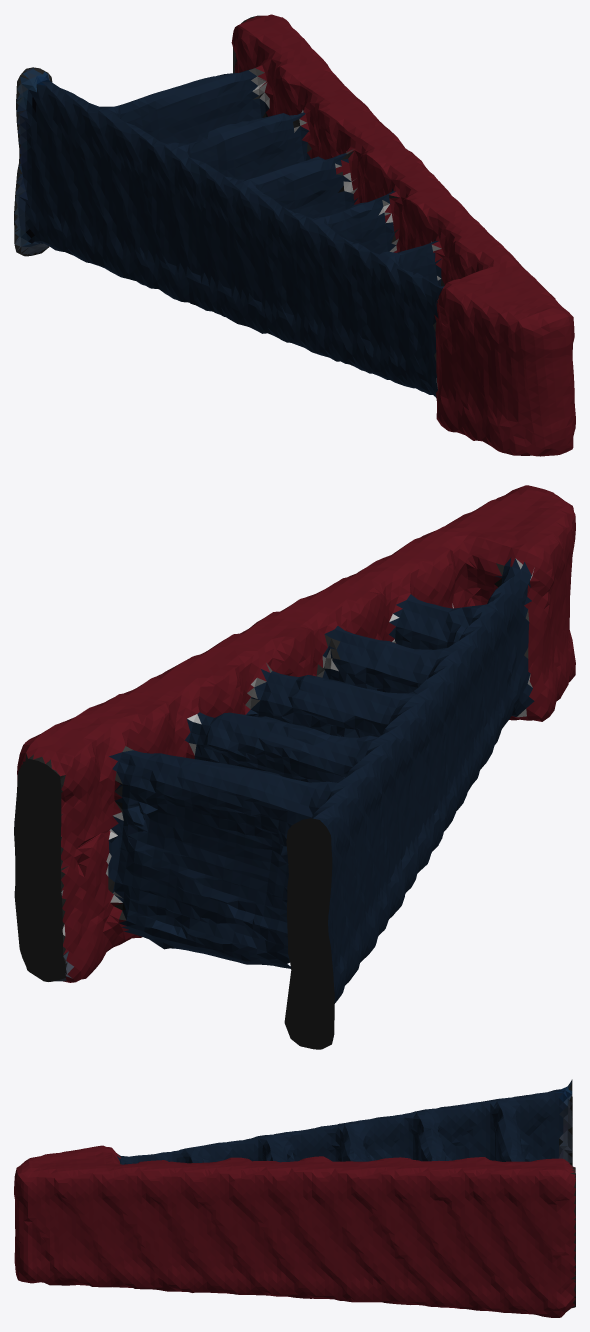
File: soft_gripper_aligned.dae
The picture shows the model from 3 angles, top to bottom: view 1: azimuth 30°, elevation 25°; view 2: azimuth 150°, elevation 25°; view 3: azimuth 270°, elevation 25°; orthographic projection. The views are drawn at different scales.
Parts seen in each view (by area): view 1: node_f4bb863f_3b00_4a46_b295_70c8289e4a95_mesh0; view 2: node_f4bb863f_3b00_4a46_b295_70c8289e4a95_mesh0; view 3: node_f4bb863f_3b00_4a46_b295_70c8289e4a95_mesh0.
Part boxes in pixels (x1,y1,x2,y2): node_f4bb863f_3b00_4a46_b295_70c8289e4a95_mesh0: [14, 14, 575, 456]; node_f4bb863f_3b00_4a46_b295_70c8289e4a95_mesh0: [14, 485, 575, 1049]; node_f4bb863f_3b00_4a46_b295_70c8289e4a95_mesh0: [14, 1079, 575, 1317].
Bounding box in the file's own units: 0.0306 × 0.0722 × 0.021.
